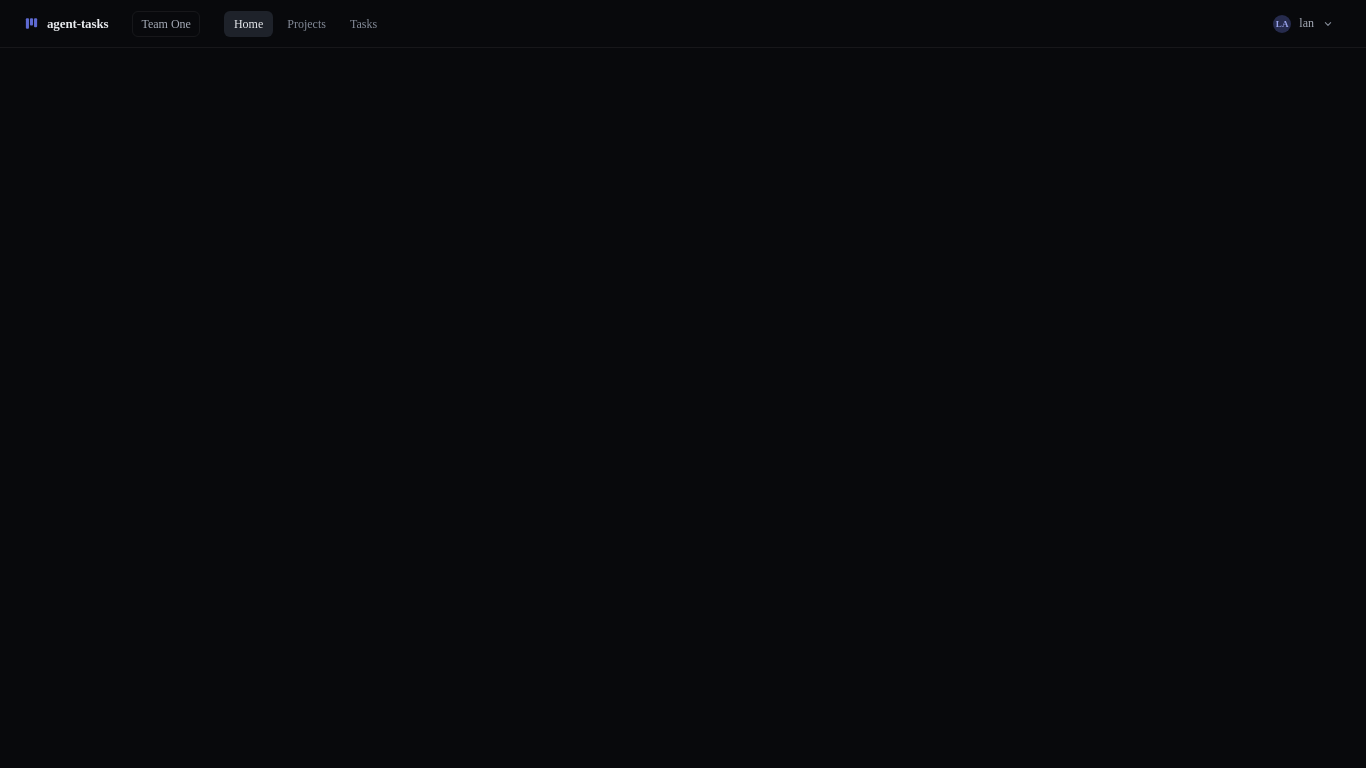
Test: New team dialog › Escape closes it without navigating and returns focus to the account menu button
Click the button with aria-label "Account menu for lan".
click(1304, 24)  # box x1=1265 y1=8 x2=1342 y2=38
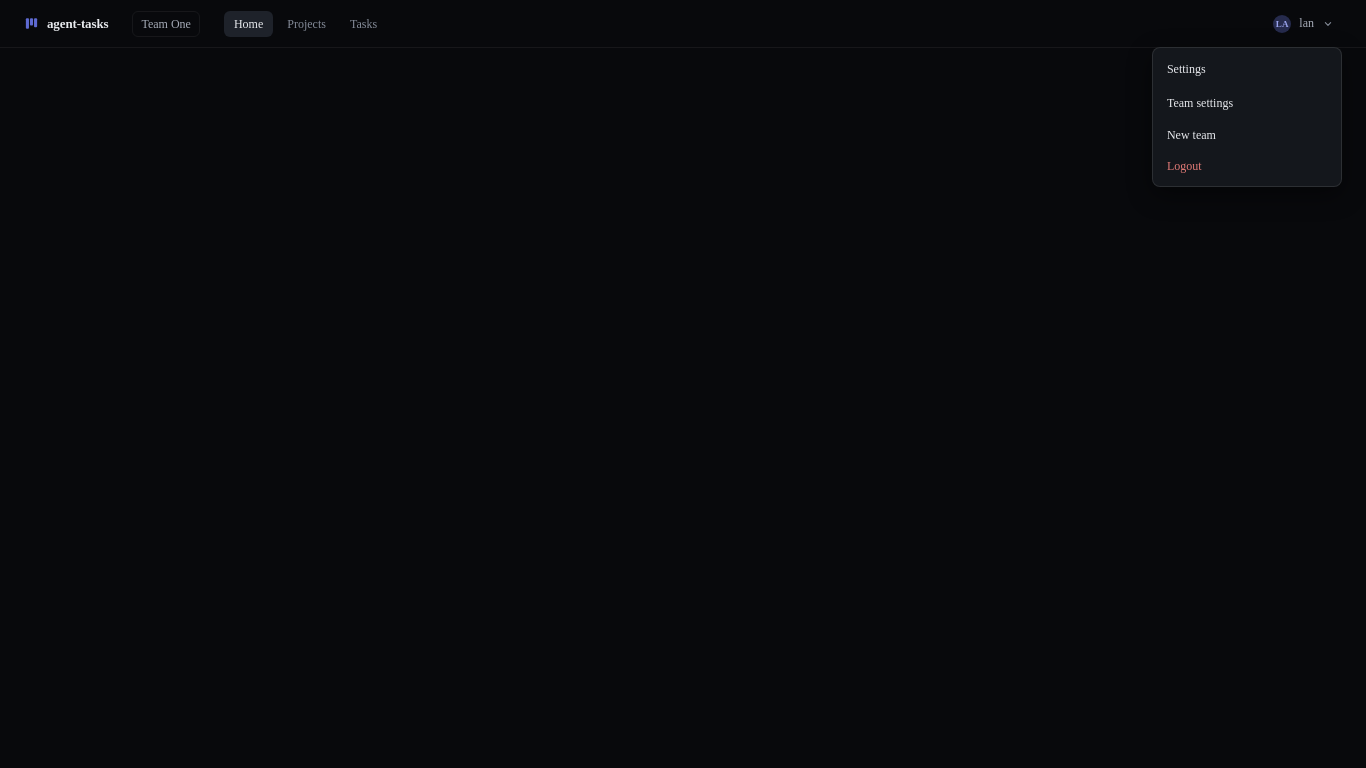
Click the menu item "New team".
click(1247, 135)  # box x1=1157 y1=120 x2=1337 y2=150
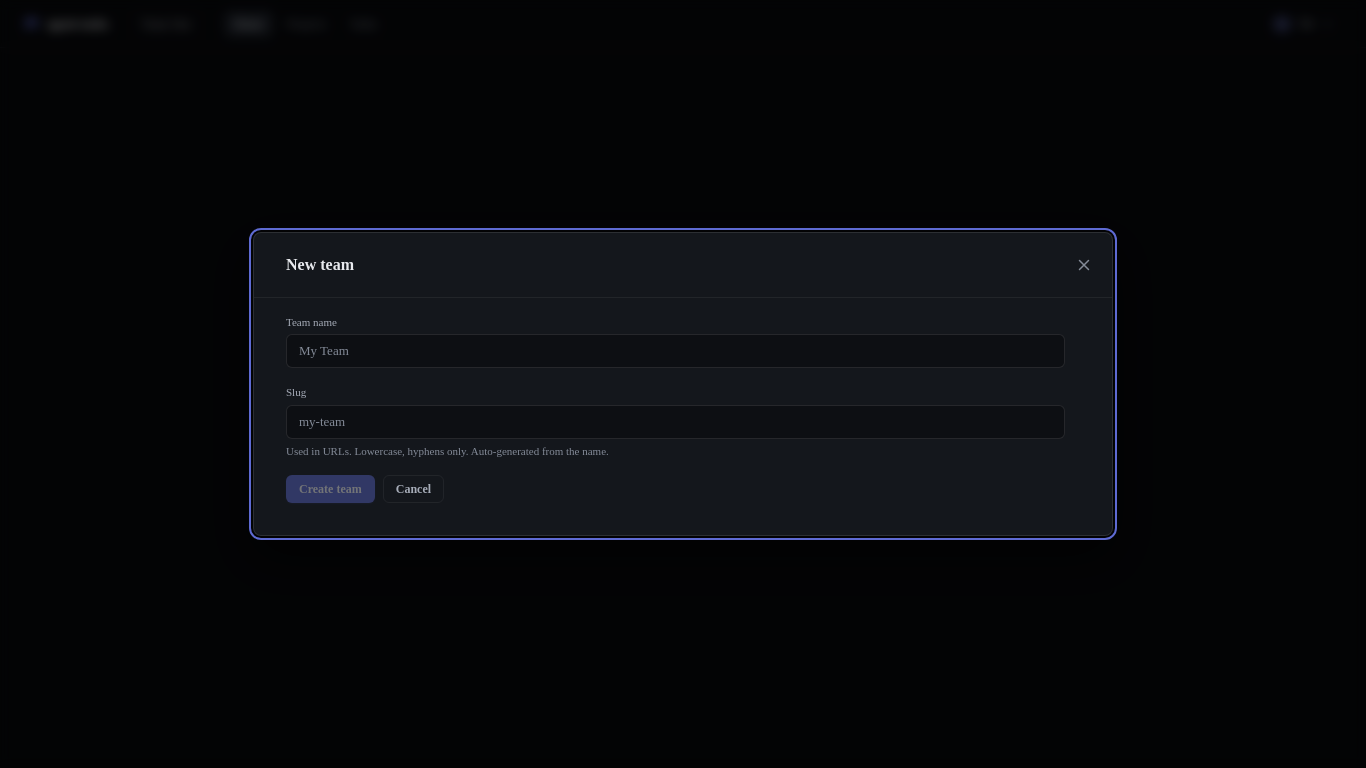
Press Escape
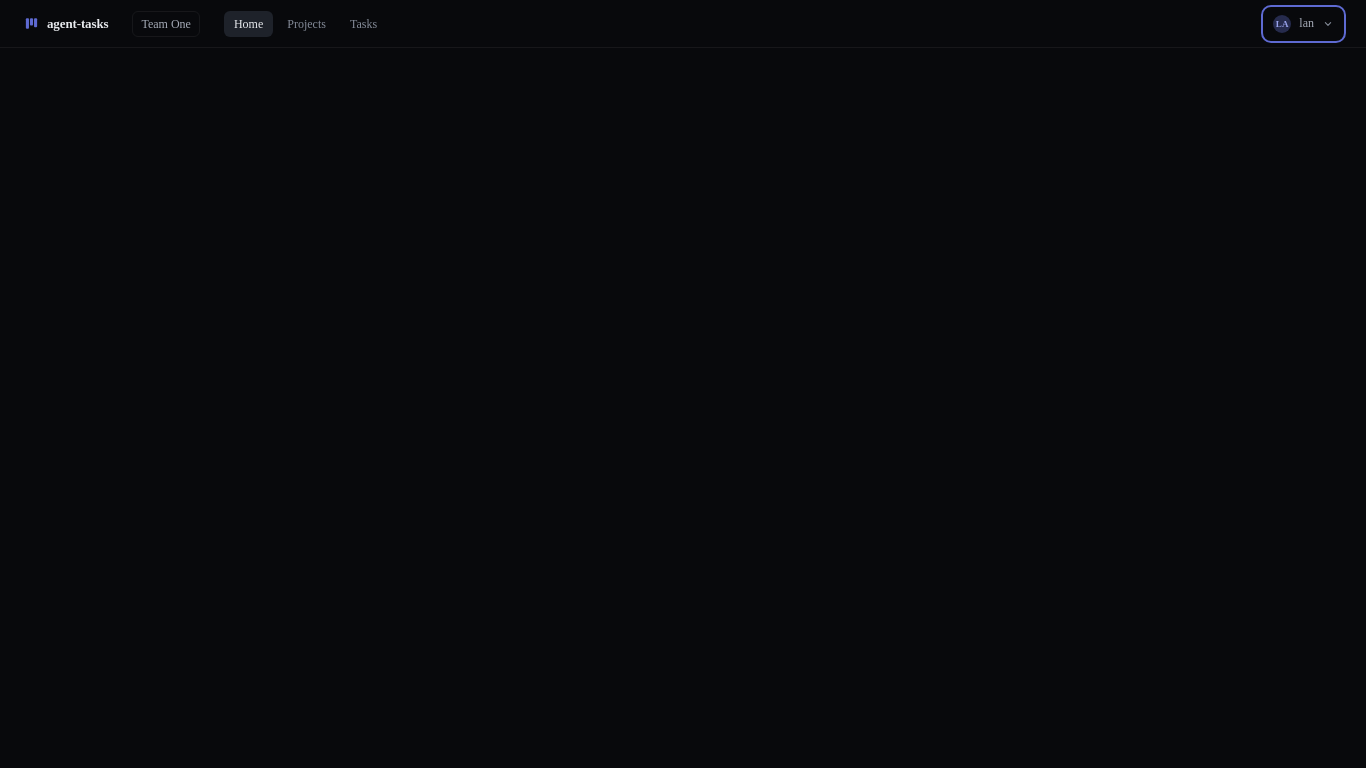
expect the dialog is gone: met
